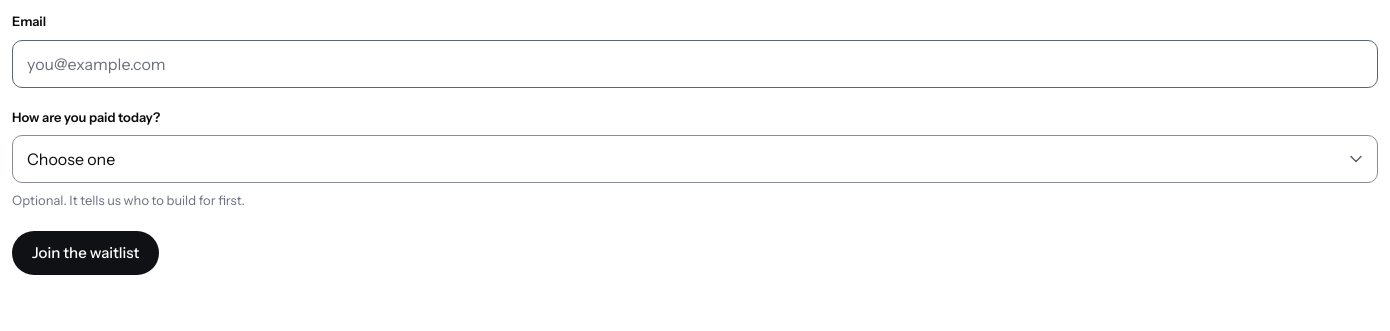
it: WaitlistForm › shows the server's reason when the entry is refused, and keeps the form
The image size is (1390, 331).
Type "ada@example.com" into the field labelled "Email". click: (695, 64)
box: [12,40,1378,88]
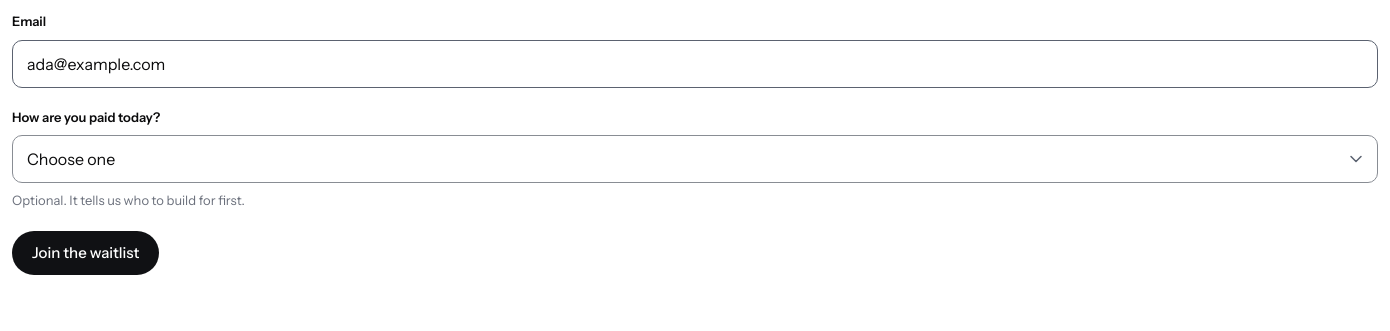
Click the button "Join the waitlist". click: (86, 252)
box: [12,230,159,274]
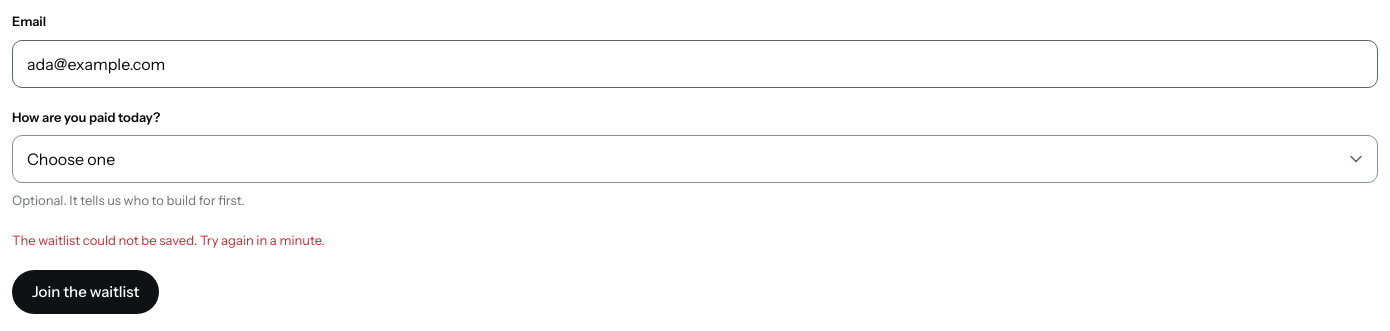
Expected: the message reads "The waitlist could not be saved. Try again in a minute.", [12,232,325,248]
